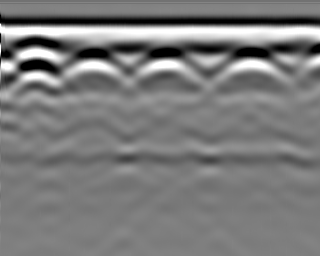pipe: (11, 36, 63, 74)
steel: (220, 46, 285, 85), (138, 46, 192, 80), (68, 49, 120, 82)
